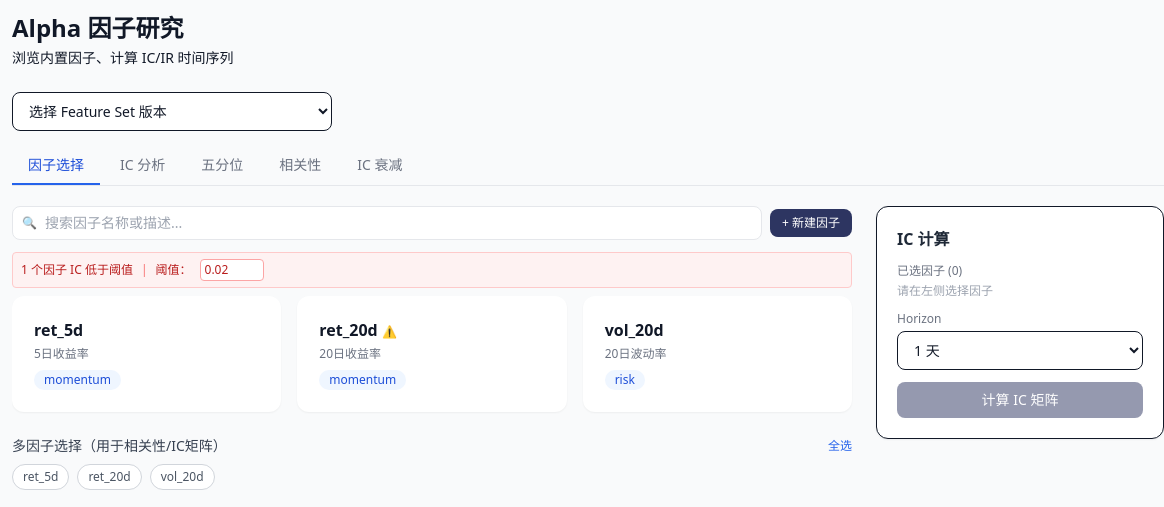
Test: FactorsPage › shows no results message when search has no matches
Step 1. Type "nonexistent_factor_xyz" into the field with placeholder "搜索因子名称或描述..." → (387, 223), box [12, 206, 762, 240]
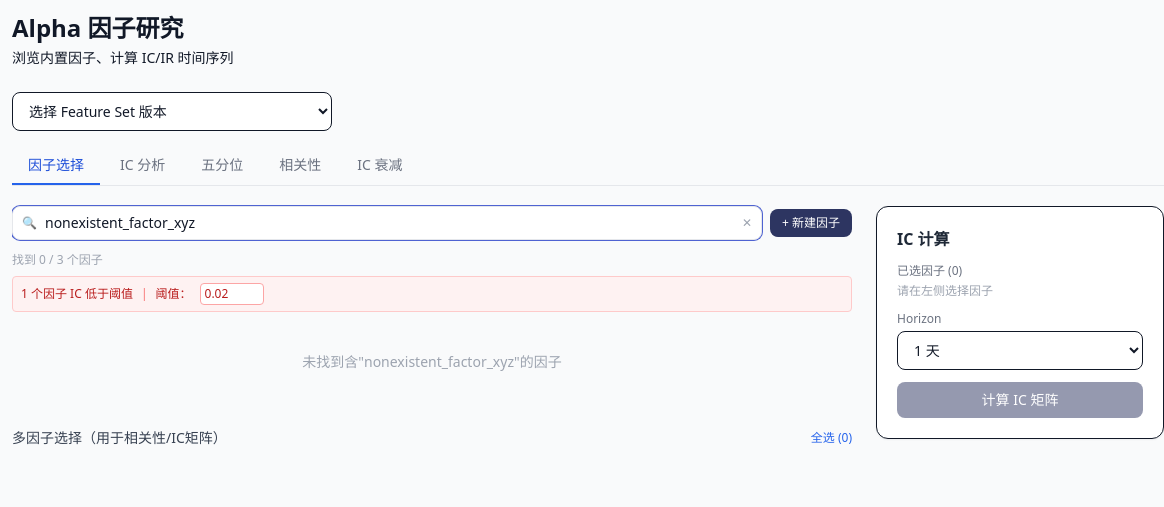
expect the text "未找到含\"nonexistent_factor_xyz\"的因子" is shown: met, box [302, 352, 562, 371]
